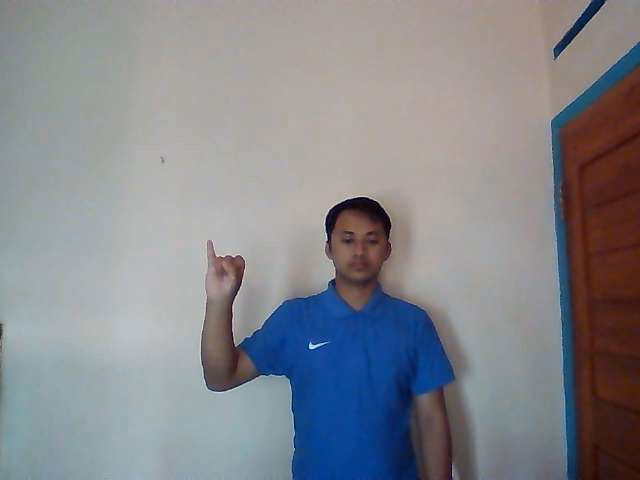I: (204, 238, 246, 301)
